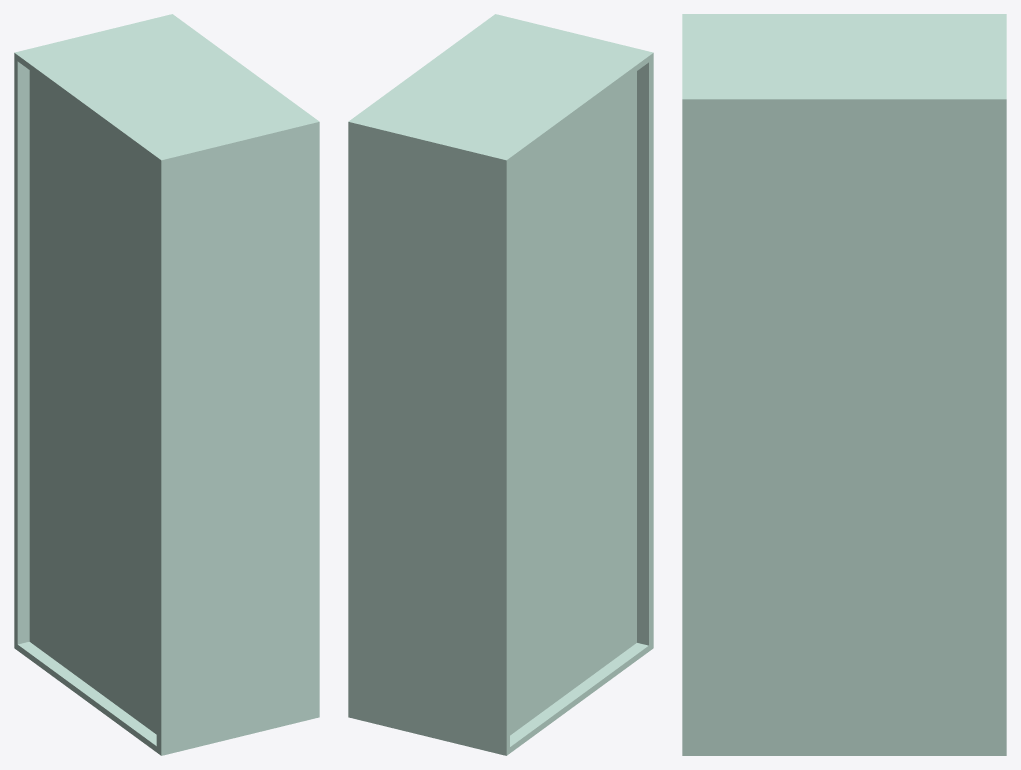
3 renders of one model, left to right at view 1: azimuth 30°, elevation 25°; view 2: azimuth 150°, elevation 25°; view 3: azimuth 270°, elevation 25°, orthographic. The views are drawn at different scales.
Visible parts, largest first — view 1: Renderer Node; view 2: Renderer Node; view 3: Renderer Node.
Part boxes in pixels (box(x1,y1,x2,y2)): Renderer Node: box(14, 14, 319, 755); Renderer Node: box(348, 14, 653, 755); Renderer Node: box(682, 14, 1006, 755).
Bounding box in the file's own units: 0.2086 × 0.75 × 0.3359.
